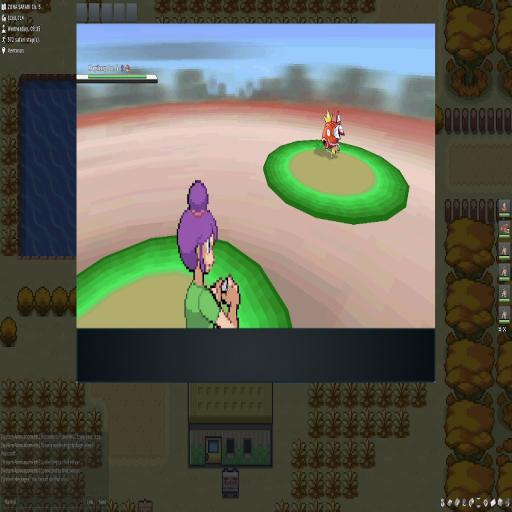MAGIKARP: (321, 109, 346, 159)
